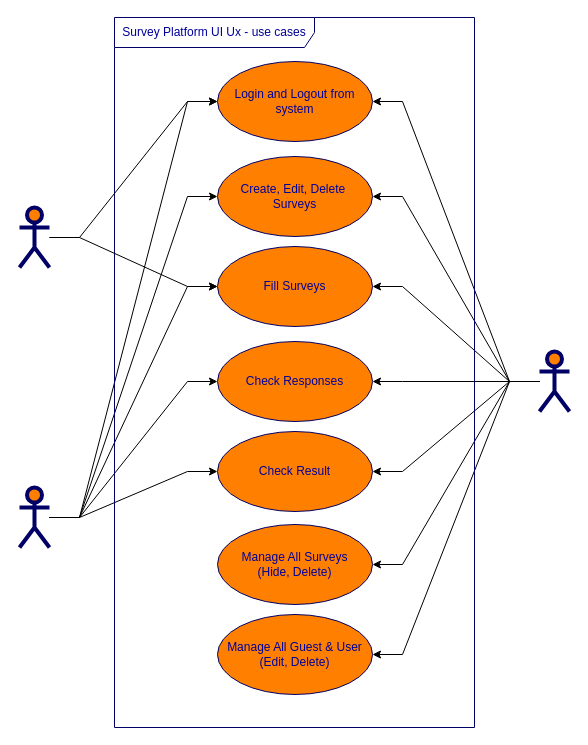
This 588x745 diagram has some shape labels left out. The shapes that lost their labels are listed below. From the top down, each one's centre as x and y in pixels, then its label:
(34,237): Guest
(554,381): Admin
(34,517): User
